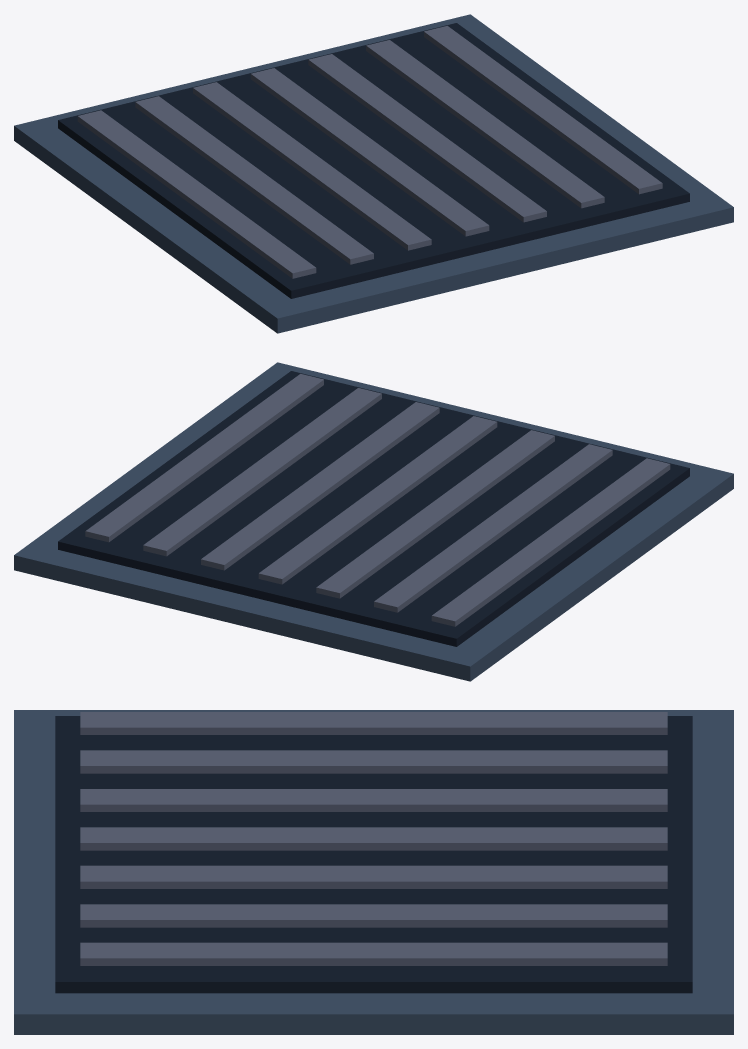
The model's file is env_floor_grate.obj.
3 renders of one model, top to bottom at view 1: azimuth 30°, elevation 25°; view 2: azimuth 150°, elevation 25°; view 3: azimuth 270°, elevation 25°, orthographic. The views are drawn at different scales.
Size of the model in its own units: 1.74 by 0.12 by 1.74.
